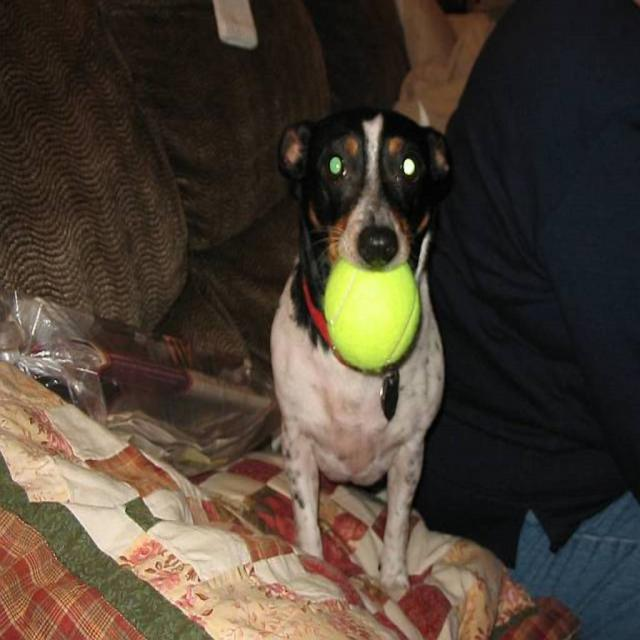Tennis-Ball: (325, 255, 425, 378)
